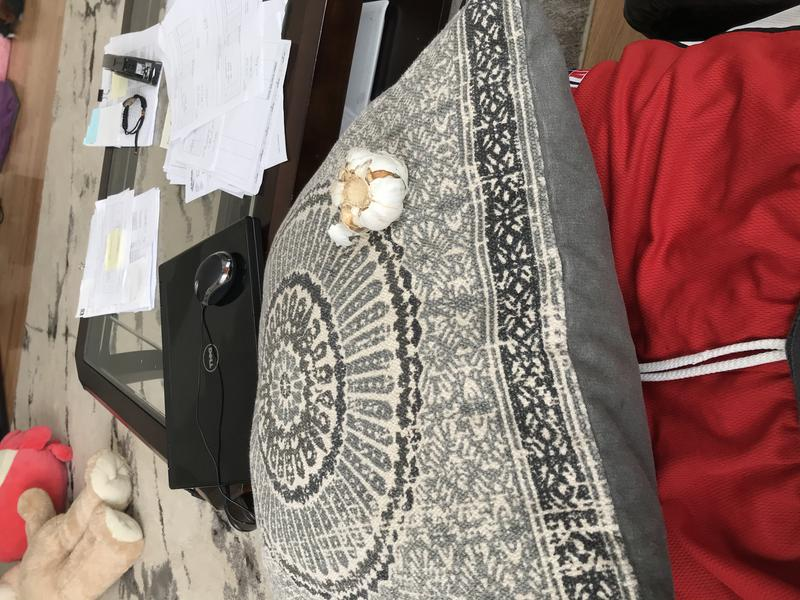garlic: (329, 144, 414, 244)
